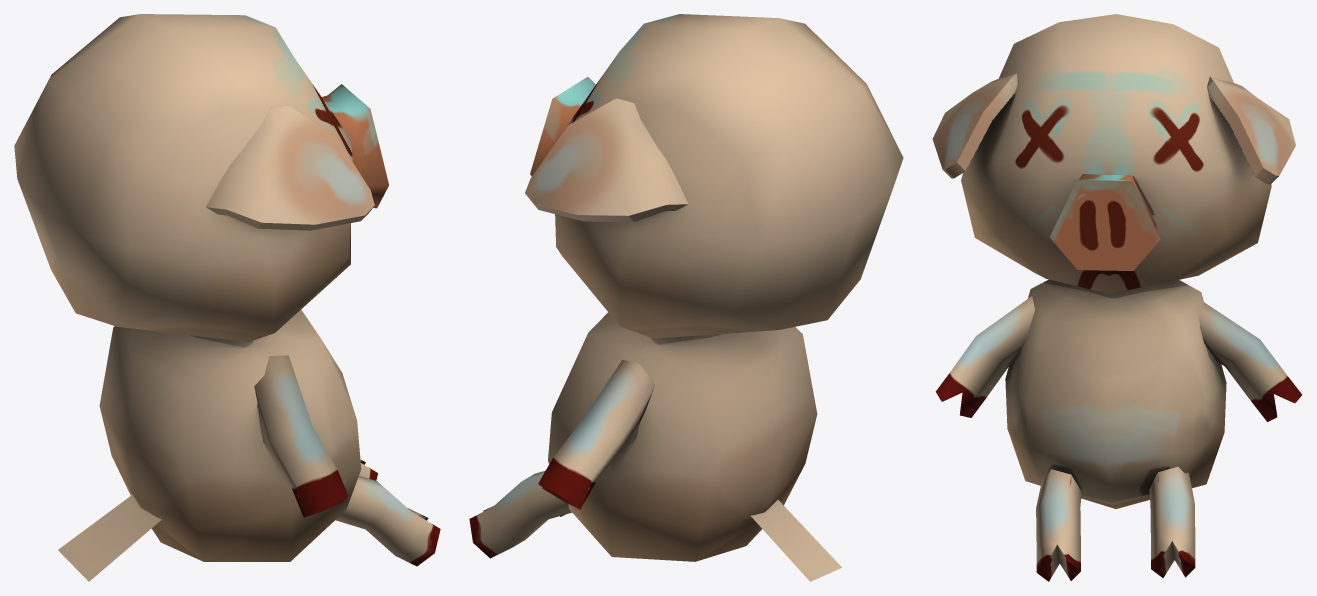
The model's file is pig shocked.fbx.
The picture shows the model from 3 angles, left to right: view 1: azimuth 30°, elevation 25°; view 2: azimuth 150°, elevation 25°; view 3: azimuth 270°, elevation 25°; orthographic projection. The views are drawn at different scales.
Visible parts, largest first — view 1: pCube161; view 2: pCube161; view 3: pCube161.
Boxes of the visible parts, x1=… form: pCube161: x1=14, y1=14, x2=440, y2=581; pCube161: x1=469, y1=14, x2=903, y2=581; pCube161: x1=932, y1=14, x2=1301, y2=581.
Size of the model in its own units: 1.07 by 1.61 by 1.12.
Materials: 1 (1 with a texture image).
